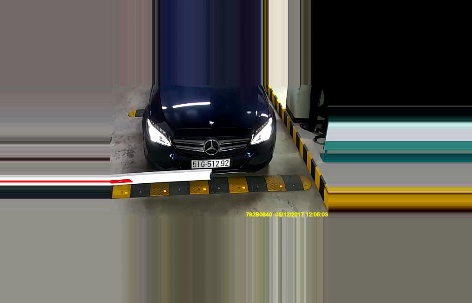plate: (191, 157, 233, 169)
